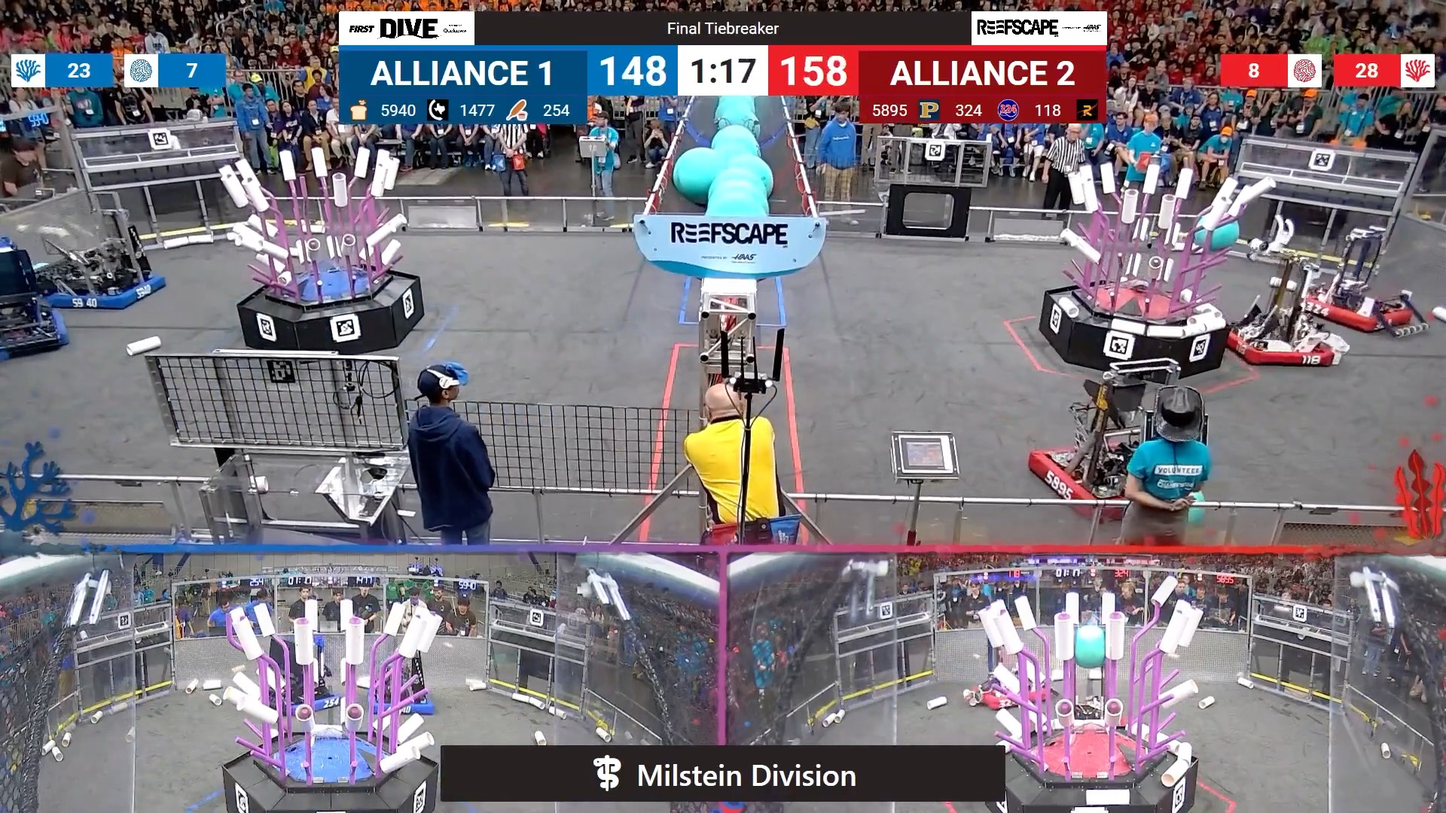bumpers: (1031, 445, 1197, 522), (35, 262, 173, 316), (1214, 324, 1344, 377), (1296, 288, 1418, 340), (0, 305, 75, 365), (362, 689, 441, 720), (972, 685, 1054, 710), (261, 690, 345, 711)
